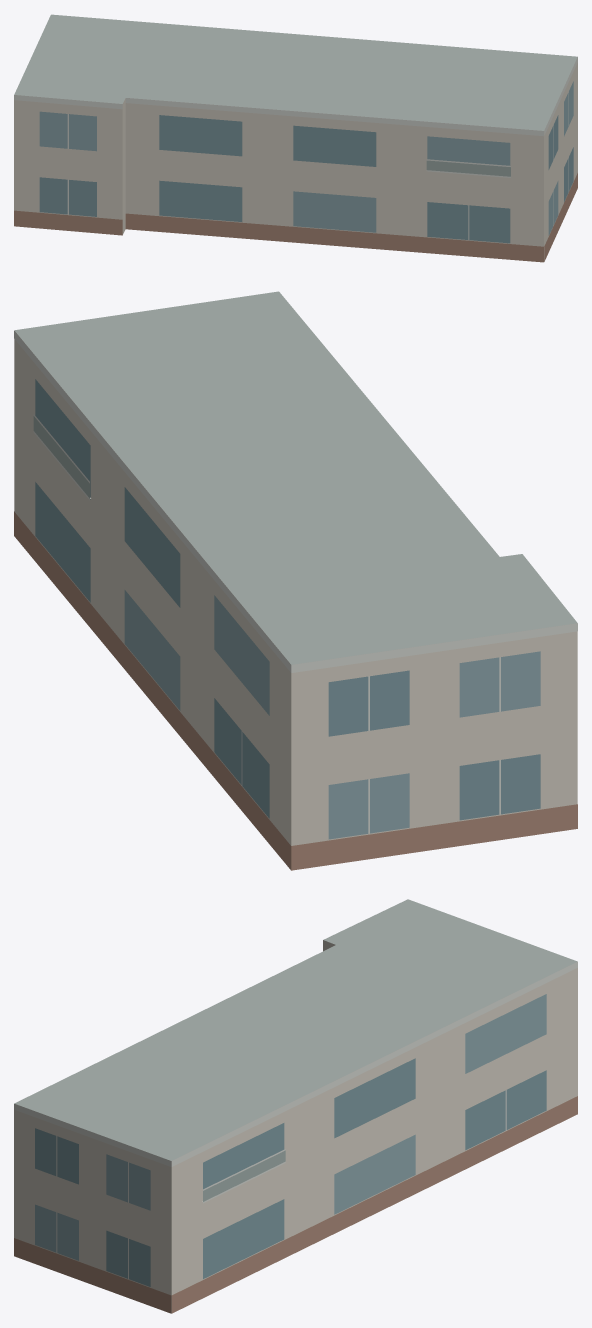
File: survey-upis-32842078.glb
3 renders of one model, top to bottom at view 1: azimuth 30°, elevation 25°; view 2: azimuth 150°, elevation 25°; view 3: azimuth 270°, elevation 25°, orthographic. The views are drawn at different scales.
Visible parts, largest first — view 1: survey-upis-32842078.tmp; view 2: survey-upis-32842078.tmp; view 3: survey-upis-32842078.tmp.
Boxes of the visible parts, left/top/right/bottom form: survey-upis-32842078.tmp: left=14, top=14, right=577, bottom=262; survey-upis-32842078.tmp: left=14, top=291, right=577, bottom=870; survey-upis-32842078.tmp: left=14, top=899, right=577, bottom=1313.
Bounding box in the file's own units: 22.45 × 6.1 × 20.42.
